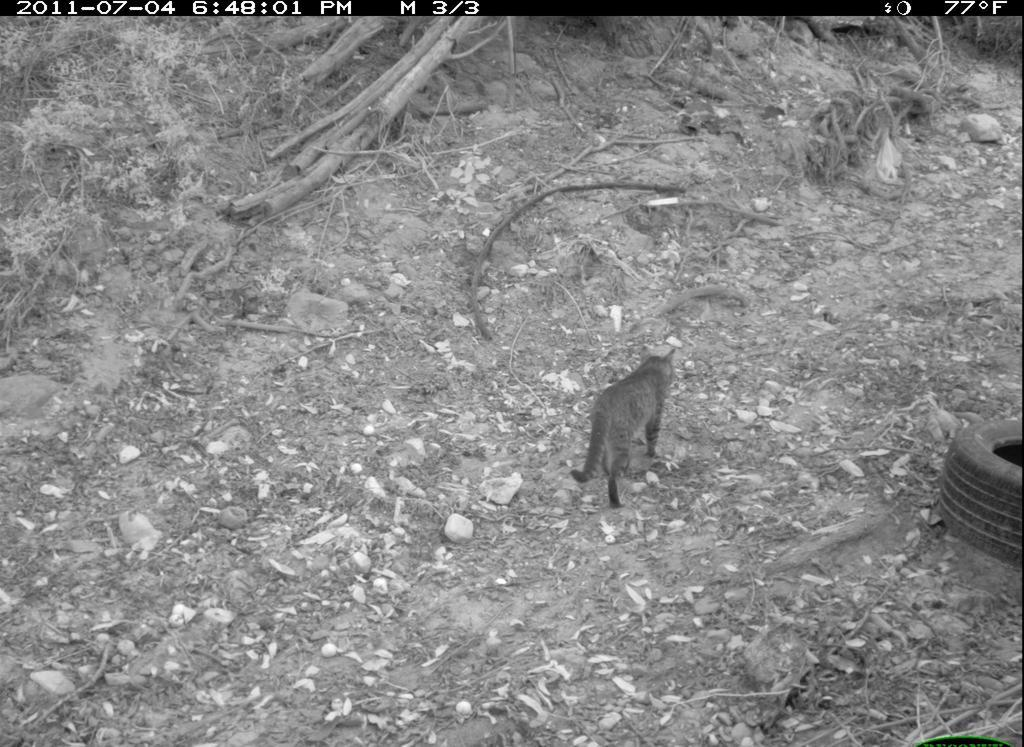cat: (562, 333, 690, 524)
